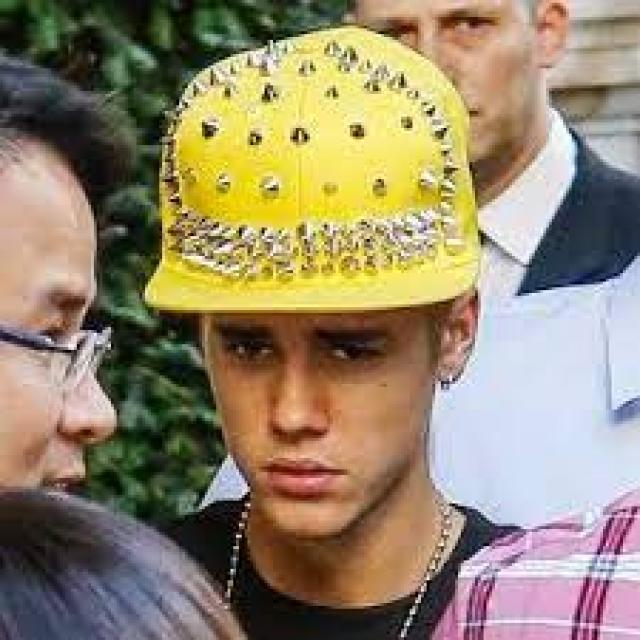hat: (132, 7, 497, 343)
